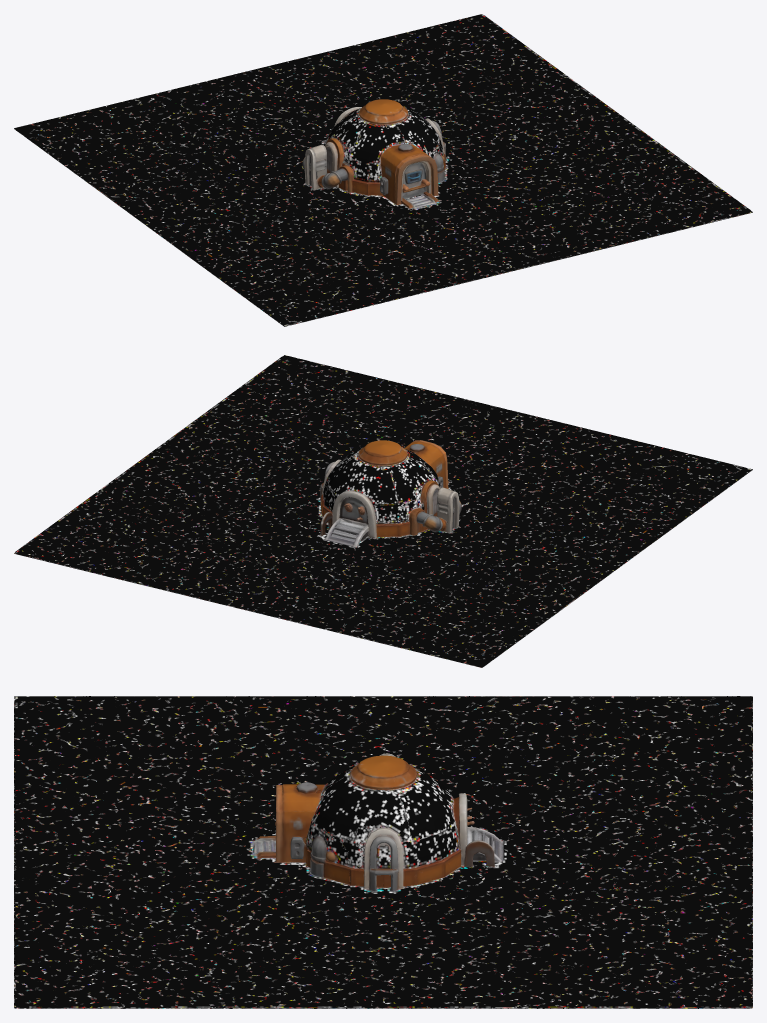
The model's file is zhiloy-kupol.glb.
The picture shows the model from 3 angles, top to bottom: view 1: azimuth 30°, elevation 25°; view 2: azimuth 150°, elevation 25°; view 3: azimuth 270°, elevation 25°; orthographic projection. The views are drawn at different scales.
Parts seen in each view (by area): view 1: geometry_0; view 2: geometry_0; view 3: geometry_0.
Part boxes in pixels (left/top/right/bottom): geometry_0: left=14, top=14, right=752, bottom=326; geometry_0: left=14, top=355, right=752, bottom=667; geometry_0: left=14, top=696, right=752, bottom=1008.
Size of the model in its own units: 0.9959 by 0.1444 by 0.9963.
Materials: 1 (1 with a texture image).
